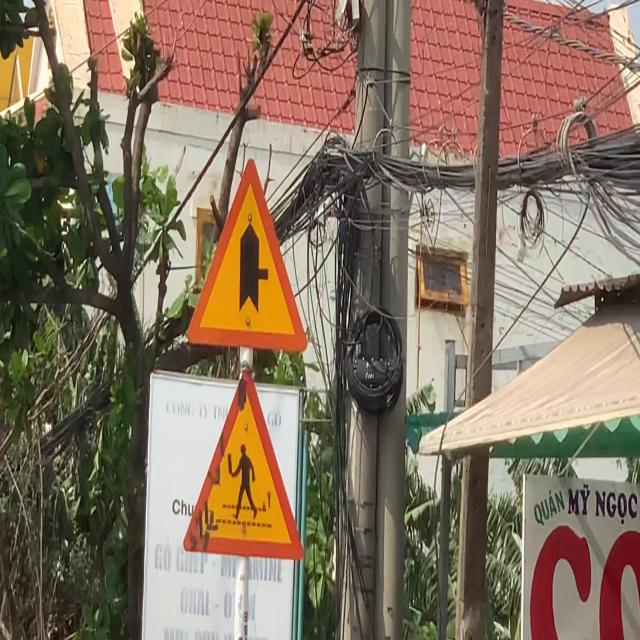Giao voi duong khong uu tien: (185, 155, 309, 356)
Nguoi di bo cat ngang: (181, 366, 305, 562)
